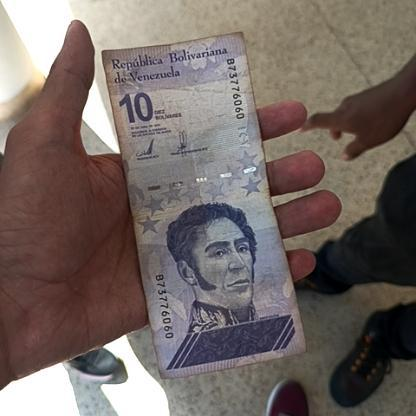ten-front-vef: (104, 40, 308, 376)
